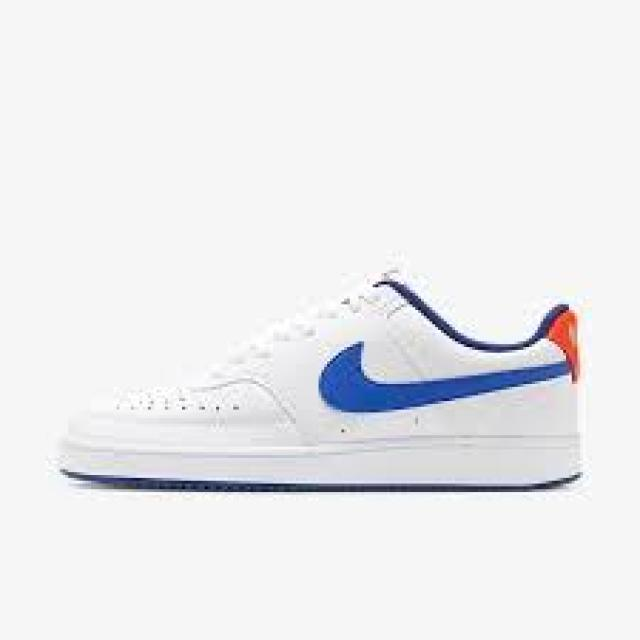shoes: (53, 260, 585, 500)
